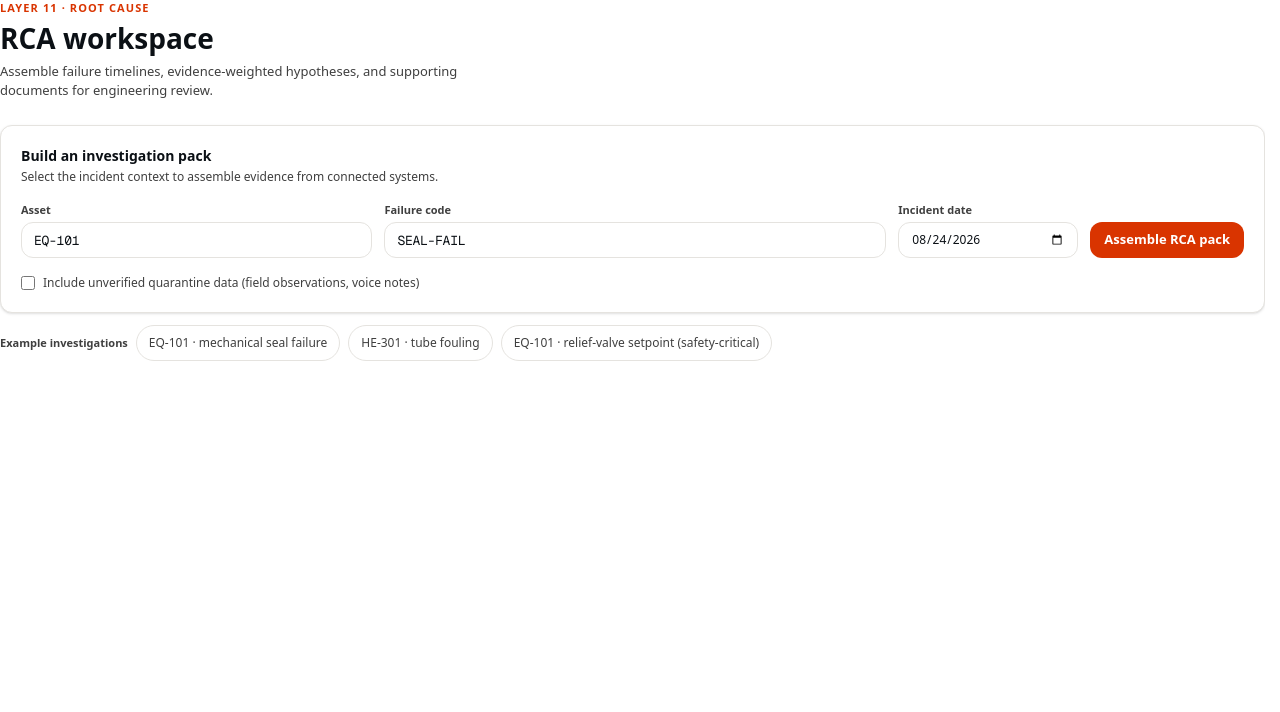
Test: RcaPage › replaces everything below the header with a RefusalCard on refusal
Click the button "Assemble RCA pack".
click(1167, 240)  # box [1090,222,1244,258]
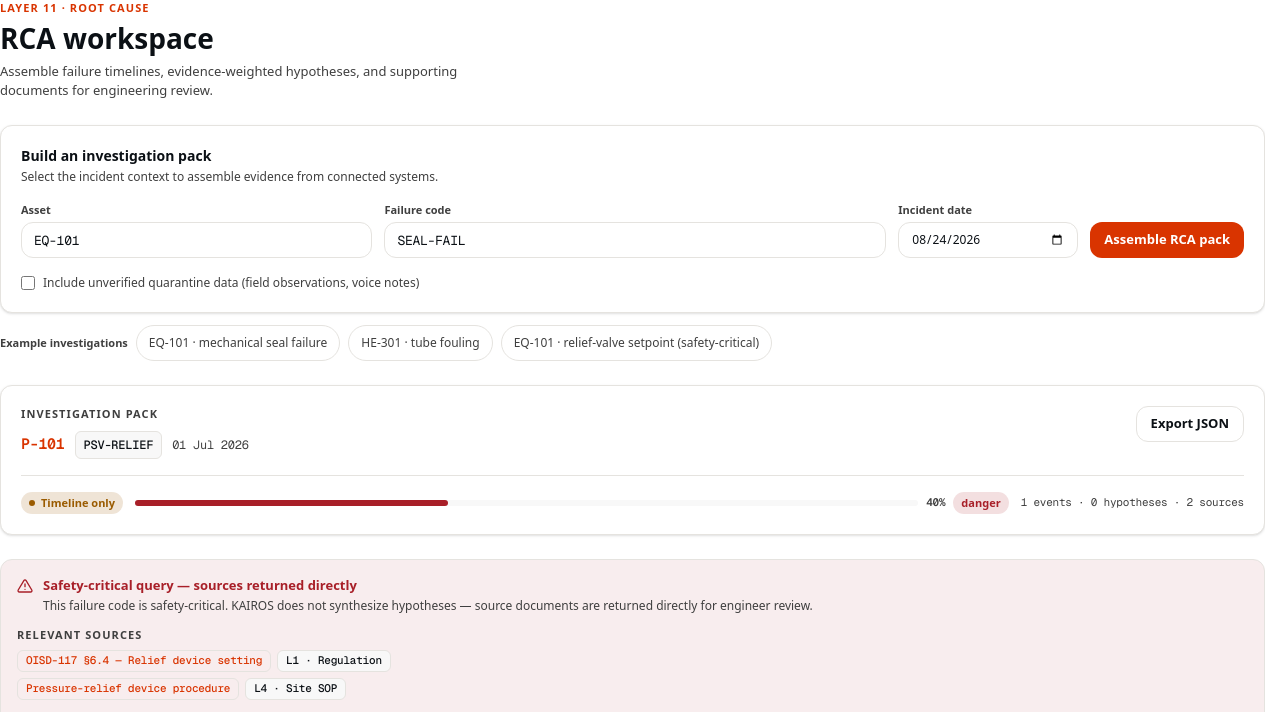
Check: the text "does not synthesize hypotheses" is shown, box [43,597,813,614]
